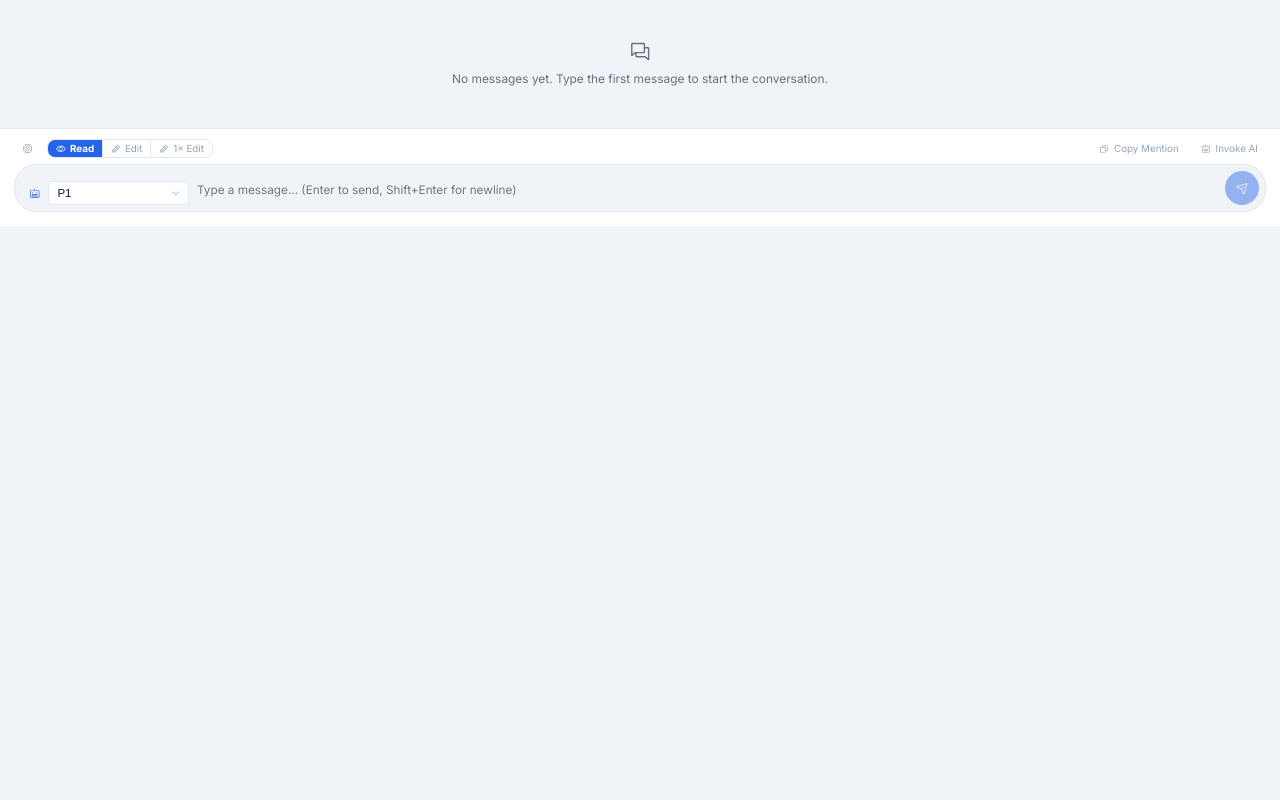
Scenario: ConversationView context range › shows the default range as "20 turns" for a user who never saved settings
Click the button with class "conv-gear-btn" at (28, 149), box [14, 140, 41, 157]
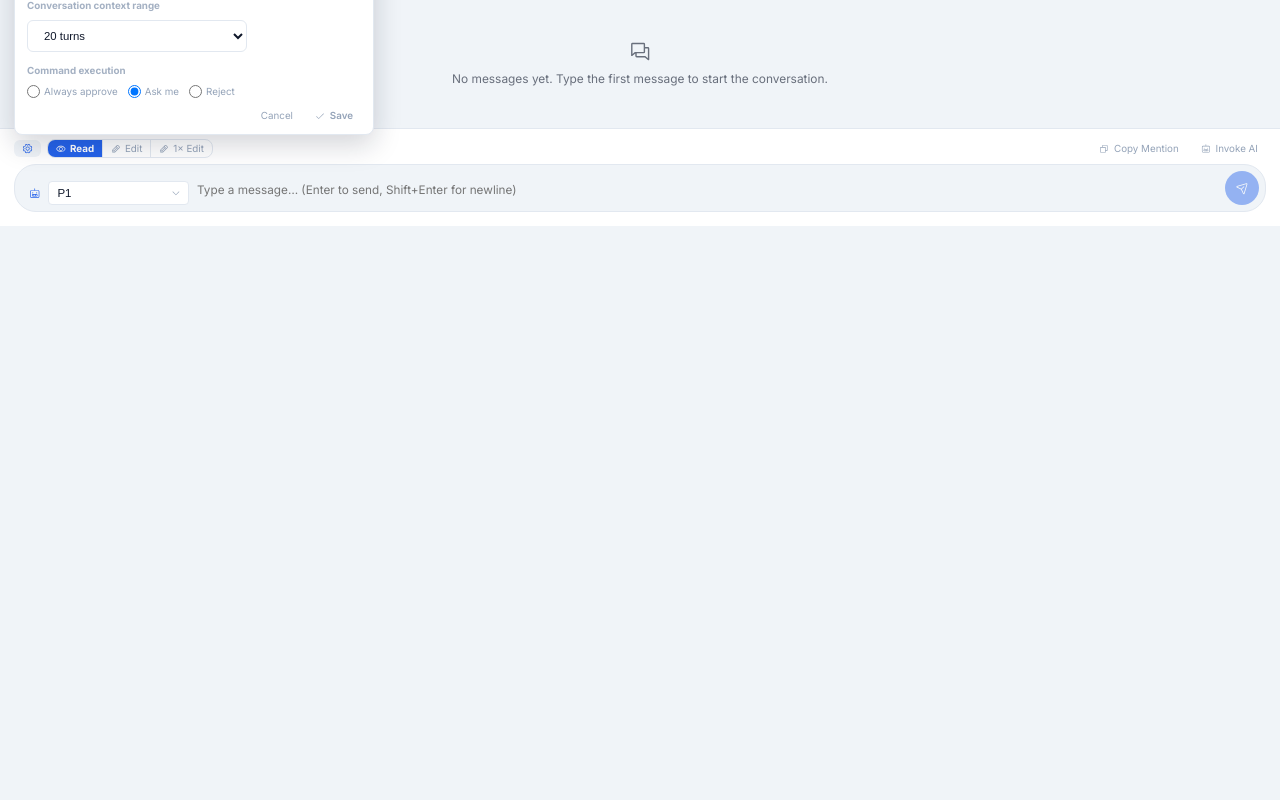
expect the dropdown with class "conv-settings-select" shows "20 turns": met, box [27, 20, 247, 52]
